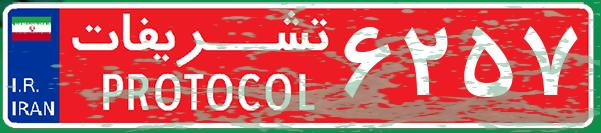2: (400, 20, 460, 115)
5: (460, 20, 520, 115)
6: (340, 20, 400, 115)
7: (520, 20, 580, 115)
تشریفات: (60, 8, 340, 125)
